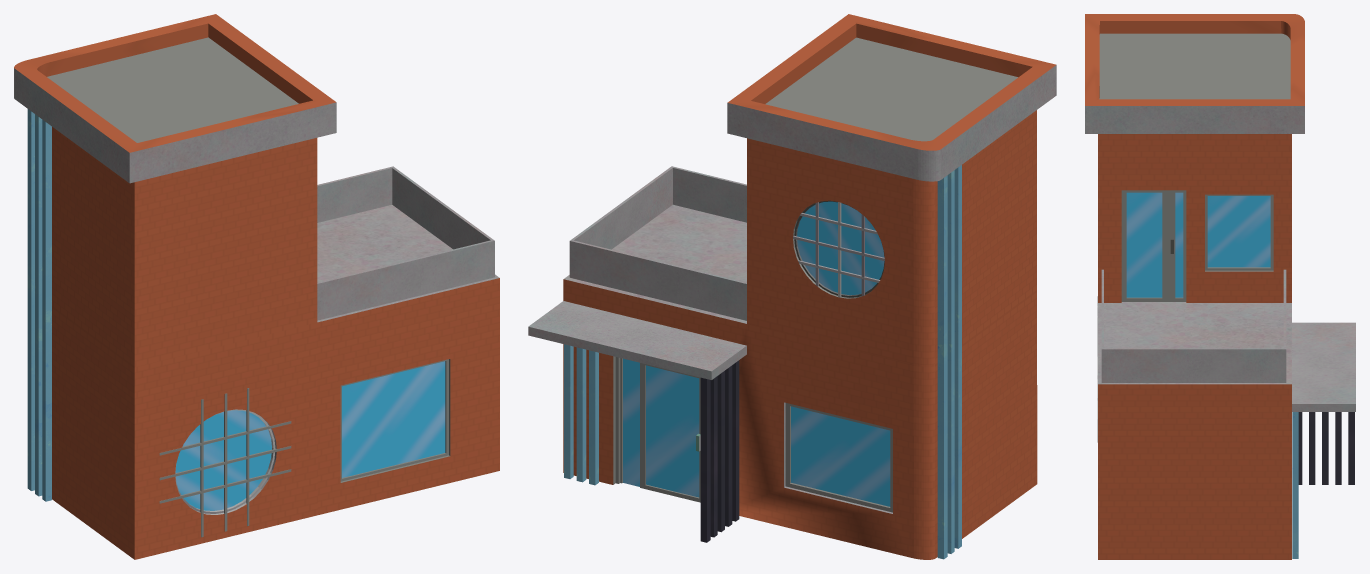
Rendered from BrickHouse.fbx.
3 renders of one model, left to right at view 1: azimuth 30°, elevation 25°; view 2: azimuth 150°, elevation 25°; view 3: azimuth 270°, elevation 25°, orthographic. The views are drawn at different scales.
Parts seen in each view (by area): view 1: BrickHouse; view 2: BrickHouse; view 3: BrickHouse.
Boxes of the visible parts, x1,y1,x2,y2 form: BrickHouse: (14, 14, 499, 559); BrickHouse: (528, 14, 1056, 559); BrickHouse: (1085, 14, 1355, 559).
Size of the model in its own units: 26.93 by 41.62 by 39.48.
